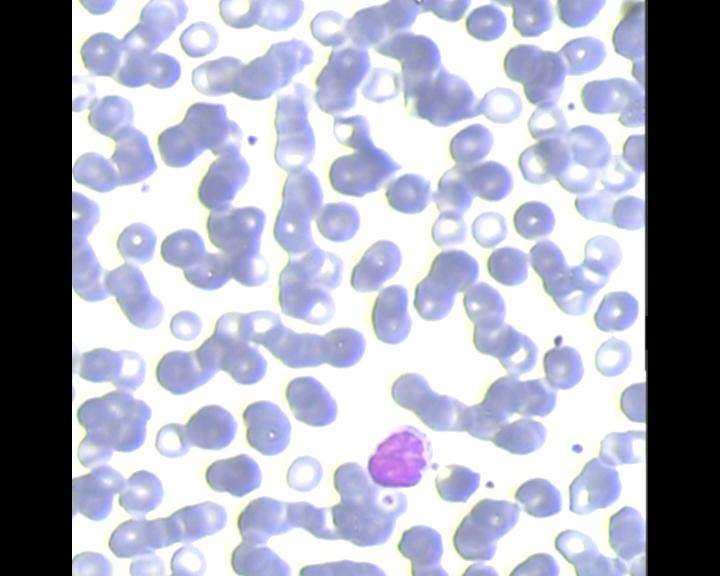lymp: (360, 421, 436, 491)
